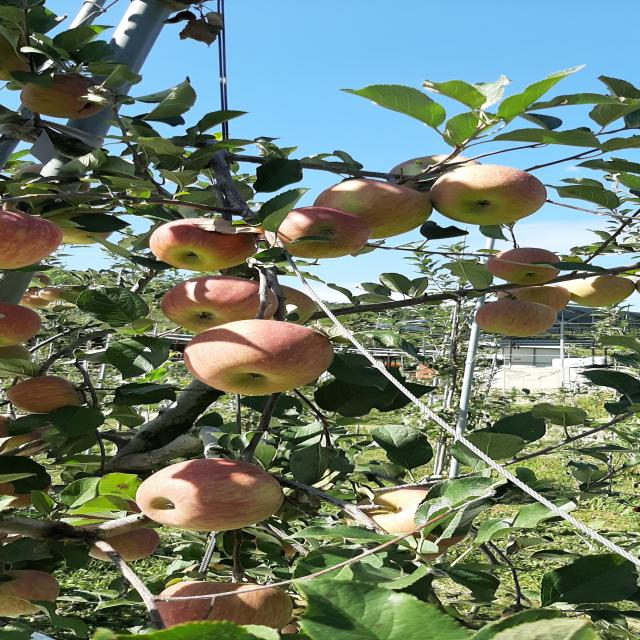fresh: (167, 319, 345, 402), (129, 455, 287, 535), (425, 165, 554, 232), (136, 217, 270, 279)
